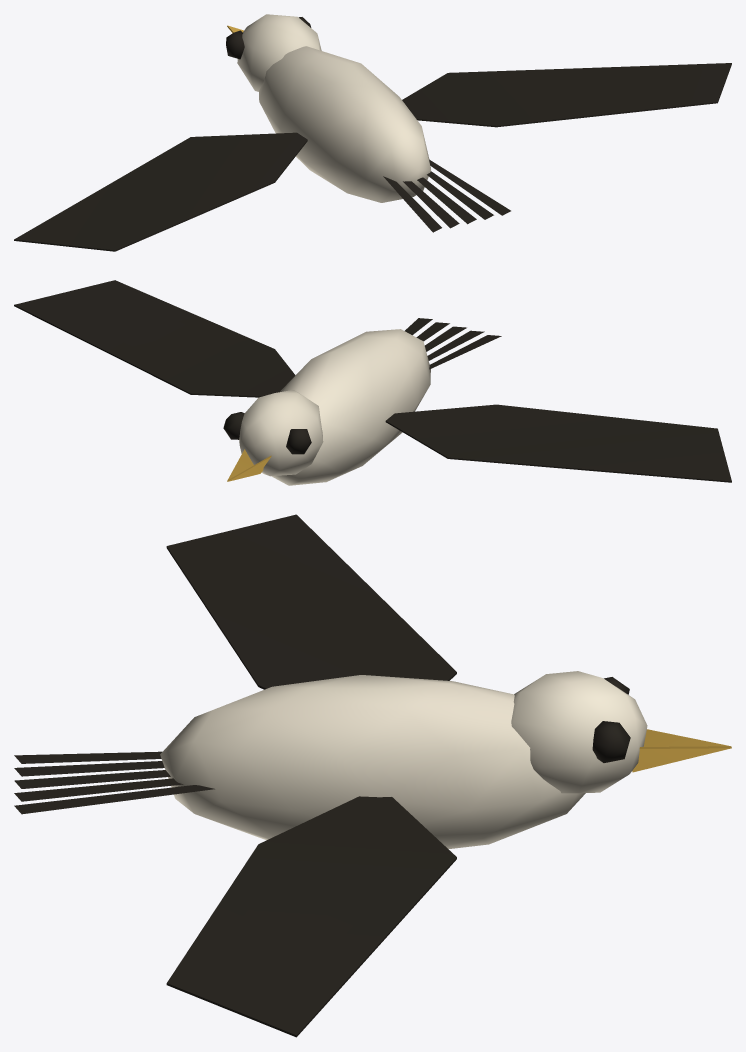
File: bird.glb
3 renders of one model, top to bottom at view 1: azimuth 30°, elevation 25°; view 2: azimuth 150°, elevation 25°; view 3: azimuth 270°, elevation 25°, orthographic. The views are drawn at different scales.
Visible parts, largest first — view 1: bird body, wing, wing.001, eye; view 2: bird body, wing, wing.001, eye, flight beak; view 3: bird body, wing.001, wing, eye, flight beak.
Part boxes in pixels (x1,y1,x2,y2): bird body: (237,14,430,202); wing: (14,132,307,251); wing.001: (402,63,731,127); eye: (226,17,510,232); bird body: (239,329,430,485); wing: (385,404,731,482); wing.001: (14,280,295,397); eye: (223,318,501,454); flight beak: (227,449,271,481); bird body: (160,671,647,849); wing.001: (166,796,456,1037); wing: (166,514,456,689); eye: (14,677,630,814); flight beak: (632,729,731,772).
Size of the model in its own units: 1.62 by 0.2468 by 0.9399.
